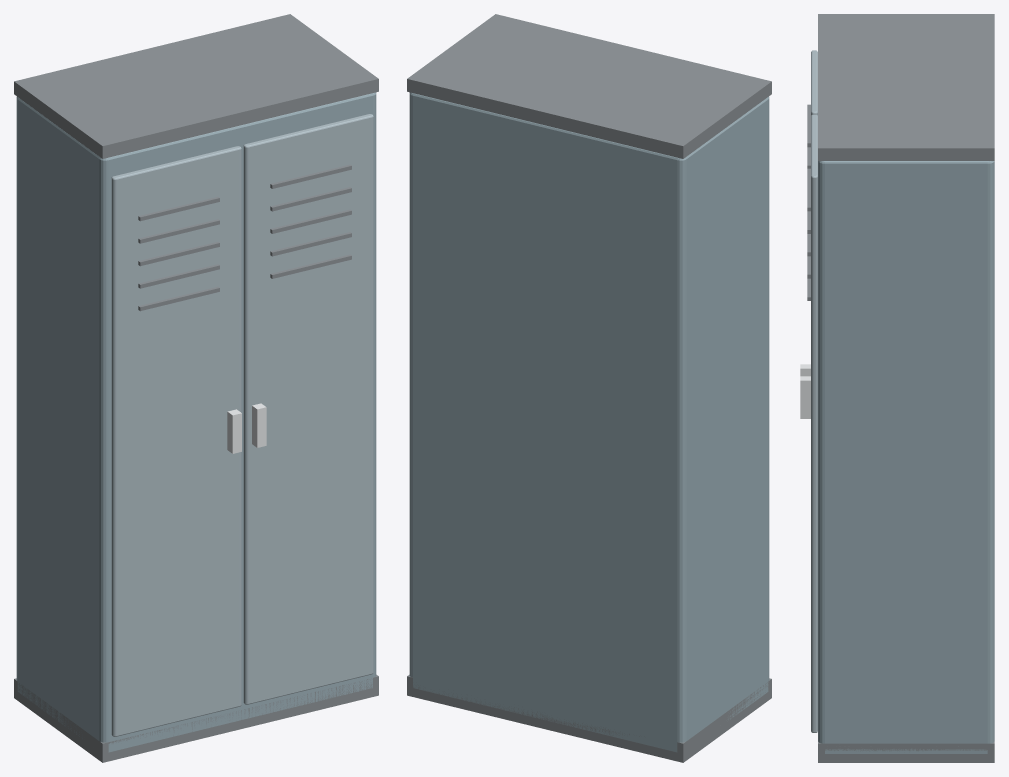
Rendered from locker.glb.
3 renders of one model, left to right at view 1: azimuth 30°, elevation 25°; view 2: azimuth 150°, elevation 25°; view 3: azimuth 270°, elevation 25°, orthographic.
Parts seen in each view (by area): view 1: locker; view 2: locker; view 3: locker.
Boxes of the visible parts, left/top/right/bottom form: locker: left=14, top=14, right=378, bottom=762; locker: left=407, top=14, right=771, bottom=762; locker: left=800, top=14, right=994, bottom=762.
Size of the model in its own units: 0.9 by 1.92 by 0.55.
